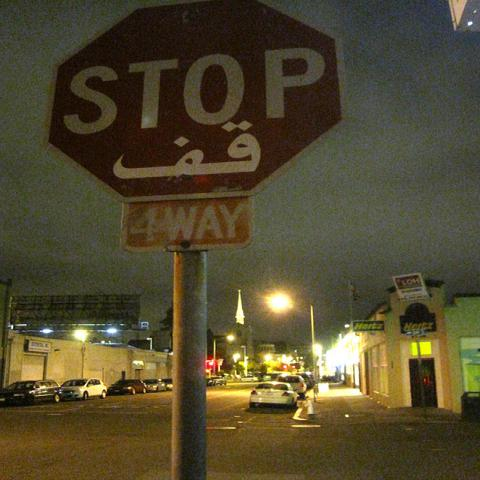car: (0, 379, 64, 406), (250, 380, 300, 408), (62, 377, 107, 400), (276, 374, 308, 398), (108, 378, 148, 395), (141, 378, 167, 392), (298, 375, 315, 389), (293, 372, 315, 380), (212, 375, 227, 386), (162, 378, 174, 391)
